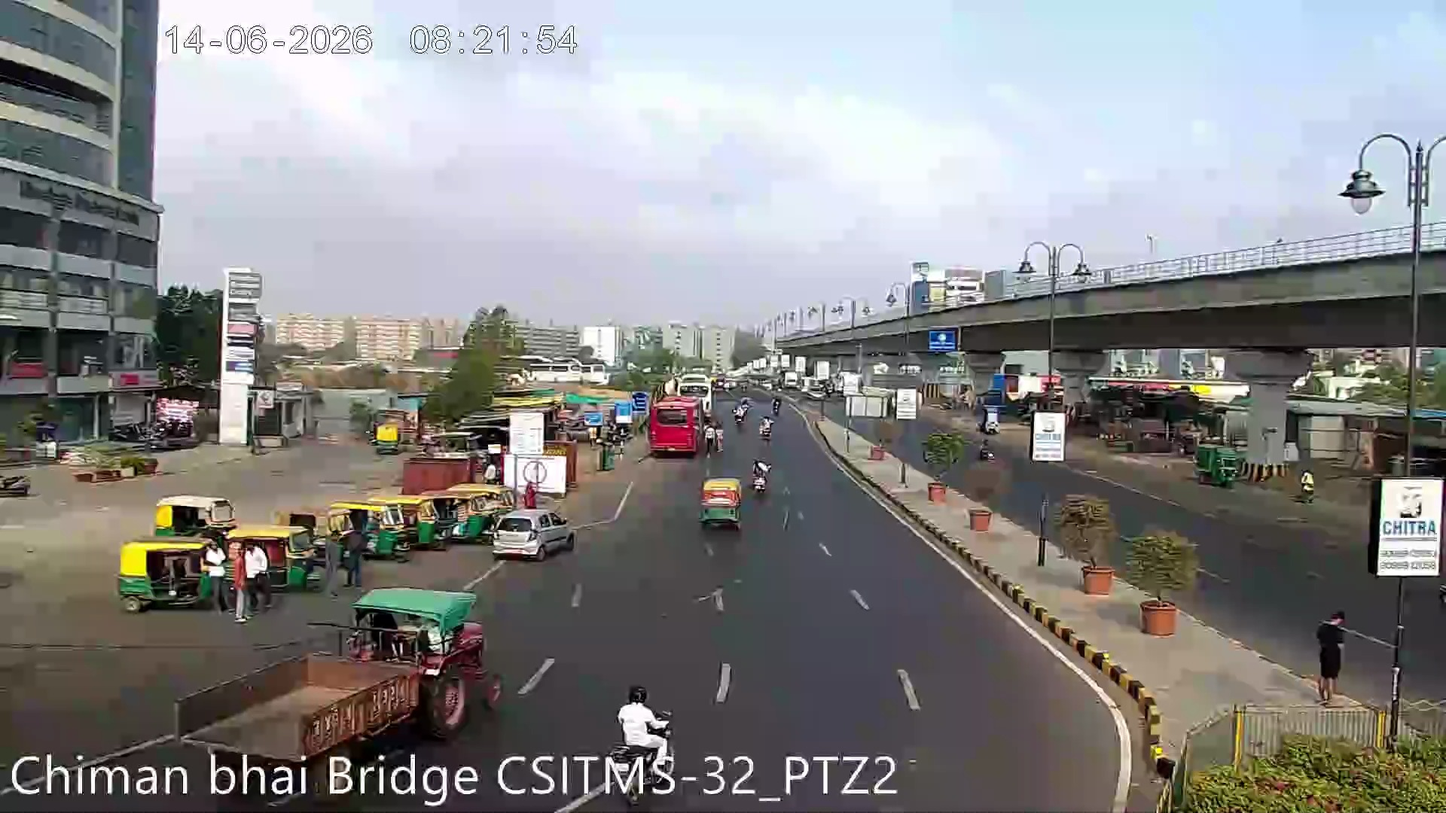auto_rickshaw: (216, 516, 326, 593), (321, 493, 430, 563), (142, 490, 239, 552), (354, 492, 441, 558), (439, 482, 511, 543), (698, 474, 743, 527), (372, 417, 407, 452)
bus: (649, 396, 699, 455)
car: (489, 504, 578, 561), (0, 459, 35, 498)
heavy_machinery: (184, 587, 519, 787)
pedestrian: (1309, 605, 1352, 710)
two_wheeler: (749, 454, 773, 497), (974, 435, 997, 465), (760, 403, 778, 441), (758, 410, 776, 441), (733, 398, 750, 429)
